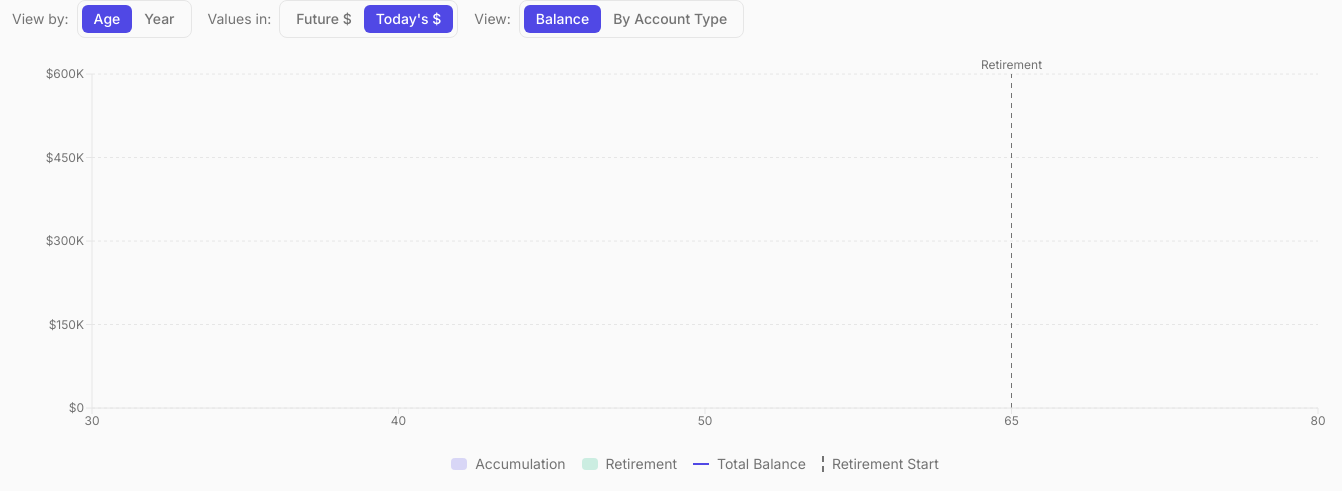
Test: ProjectionChart › toggles to the tax breakdown view and shows its legend
The image size is (1342, 491).
What coordinates should you click on to do the following:
click the button "By Account Type"
I would click on:
 (670, 19)
Its box is [601,5,739,33].
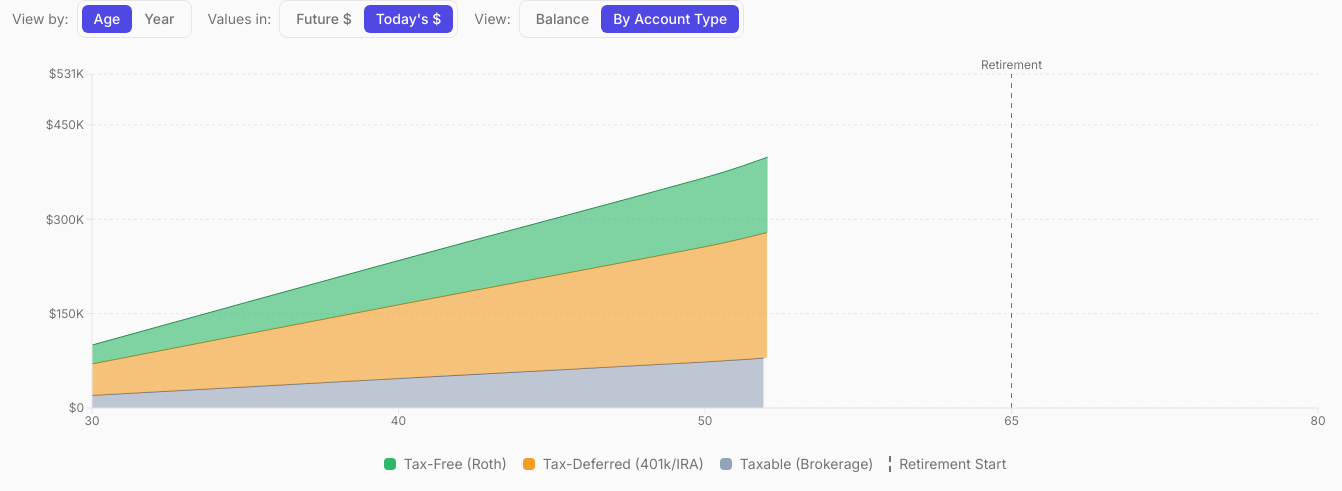
Result: the text "Tax-Free (Roth)" is shown at [404,454,507,474]
Result: the text "Tax-Deferred (401k/IRA)" is shown at [543,454,704,474]
Result: the text "Taxable (Brokerage)" is shown at [740,454,873,474]
